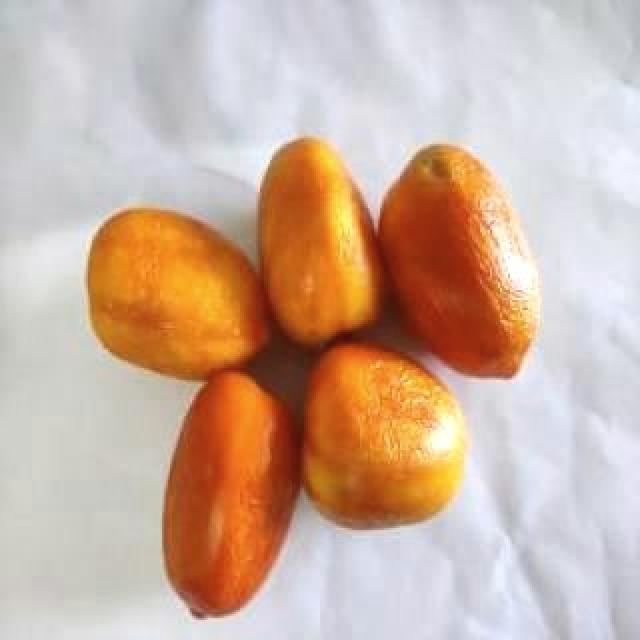Rotten_Tomato: (148, 360, 308, 630), (378, 136, 548, 384), (82, 198, 280, 390), (298, 336, 474, 542), (246, 124, 394, 366)
